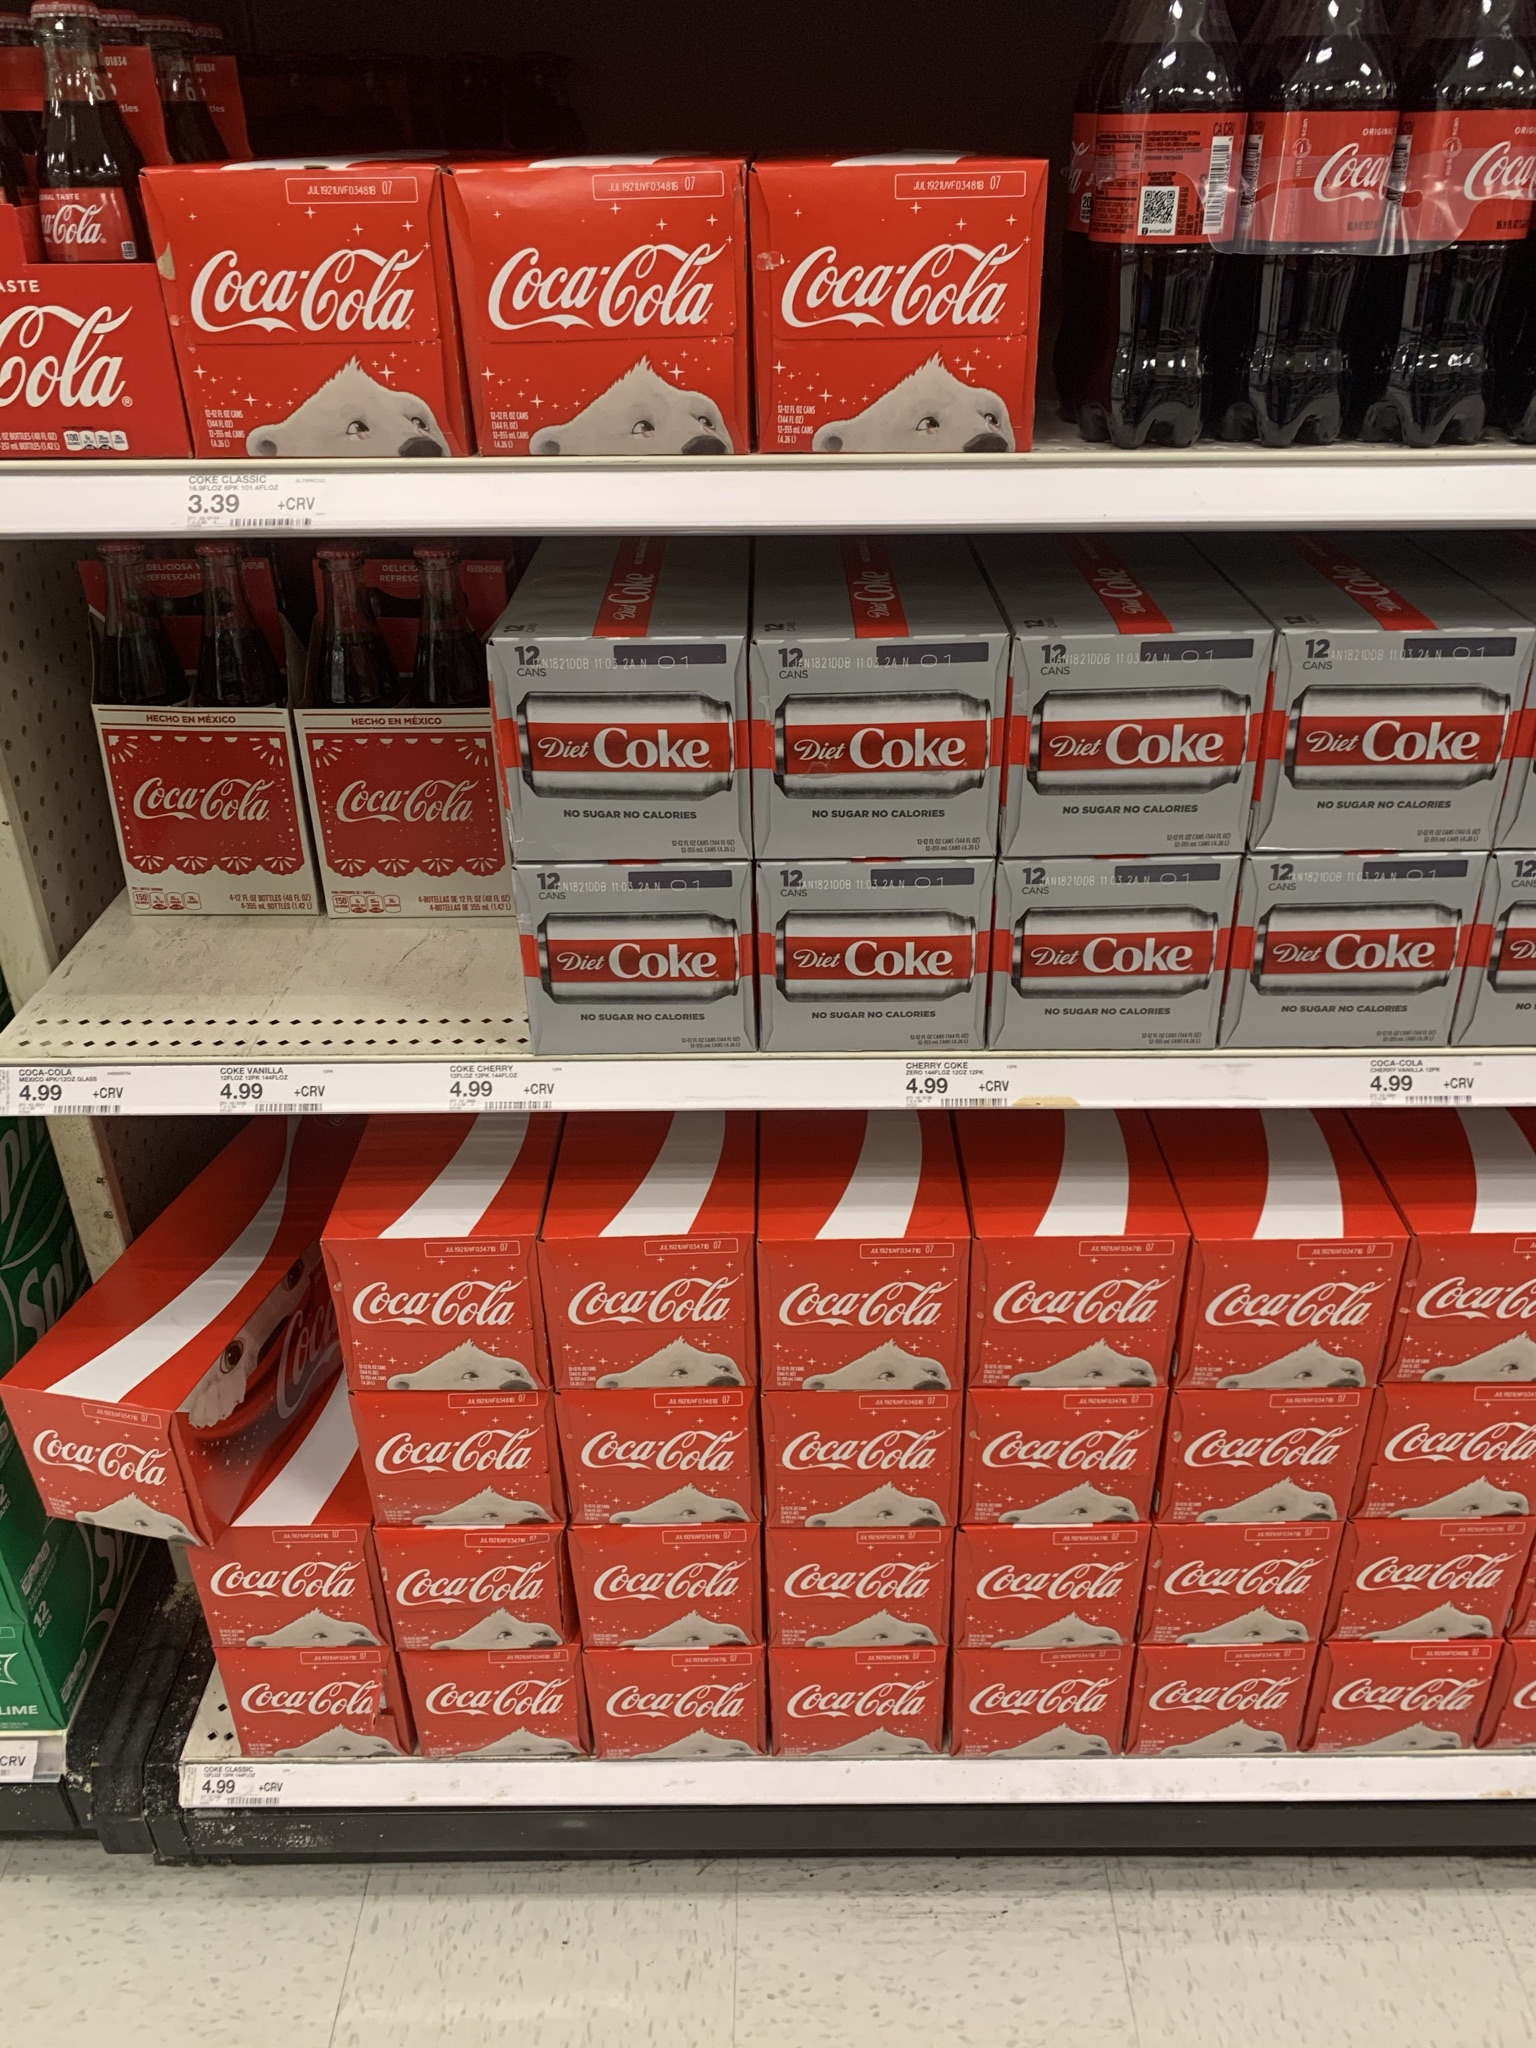Soda: (752, 161, 1044, 455), (171, 168, 461, 456), (452, 171, 744, 458), (1242, 2, 1396, 450), (1089, 2, 1236, 448), (1396, 2, 1530, 442), (486, 635, 749, 860), (1012, 627, 1263, 855), (744, 642, 1004, 860), (1265, 632, 1507, 851), (753, 860, 991, 1055), (103, 714, 324, 921), (511, 868, 752, 1056), (1242, 858, 1467, 1050), (997, 863, 1221, 1050), (316, 713, 508, 918), (319, 1234, 544, 1388), (750, 1240, 975, 1388), (537, 1240, 757, 1392), (1181, 1238, 1391, 1392), (975, 1235, 1176, 1393), (553, 1388, 758, 1529), (760, 1388, 960, 1529), (353, 1392, 552, 1529), (962, 1393, 1154, 1529), (379, 1524, 571, 1655), (1167, 1392, 1352, 1526), (1150, 1521, 1333, 1651), (950, 1522, 1146, 1643), (570, 1530, 758, 1655), (763, 1529, 954, 1651), (1371, 1388, 1534, 1521), (582, 1643, 766, 1758), (227, 1648, 408, 1763), (399, 1648, 589, 1756), (771, 1642, 950, 1755), (954, 1642, 1126, 1758), (1129, 1648, 1312, 1756), (1313, 1638, 1483, 1750), (197, 1546, 374, 1651)
